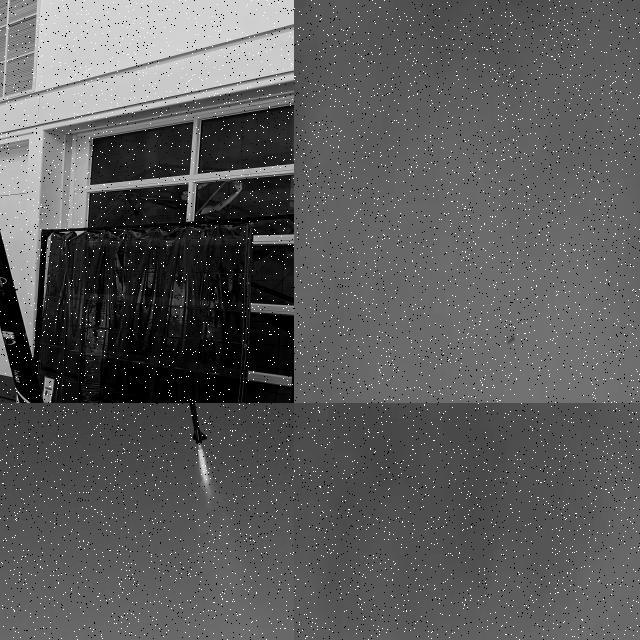Rocket: (176, 403, 207, 445), (508, 336, 514, 343)
